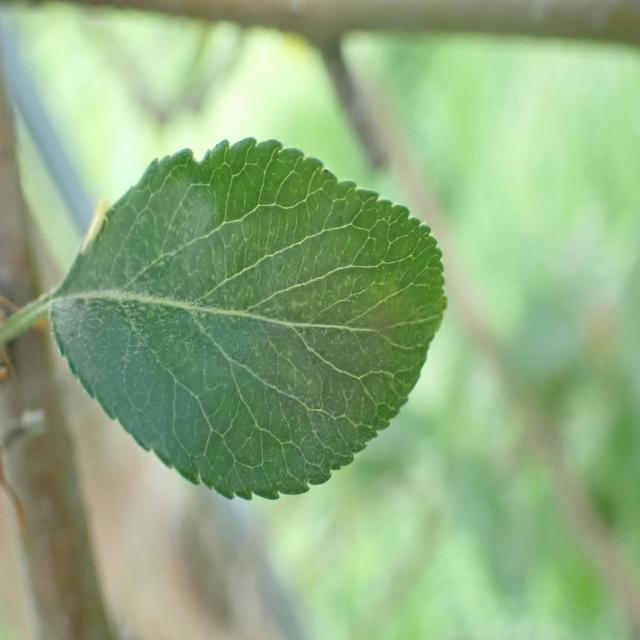scab: (85, 239, 412, 443)
